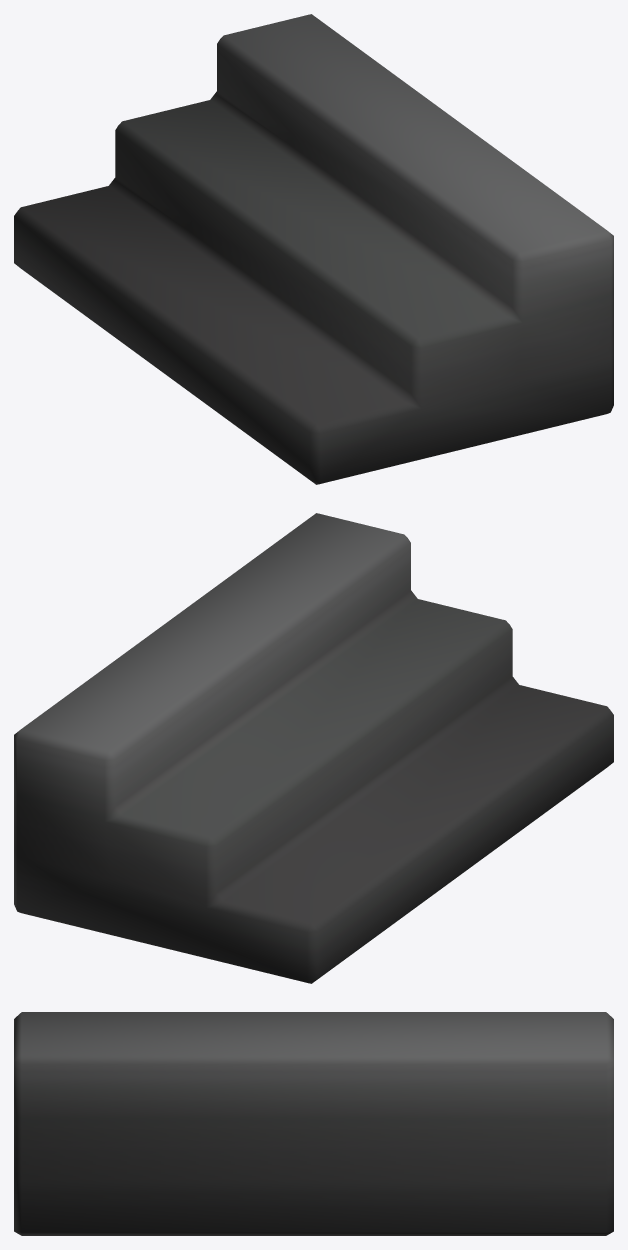
Rendered from Stairs_2.obj.
3 views of the same model, one above another, from view 1: azimuth 30°, elevation 25°; view 2: azimuth 150°, elevation 25°; view 3: azimuth 270°, elevation 25° (orthographic).
Visible parts, largest first — view 1: Stairs_2; view 2: Stairs_2; view 3: Stairs_2.
Boxes of the visible parts, left/top/right/bottom form: Stairs_2: left=14, top=14, right=613, bottom=484; Stairs_2: left=14, top=513, right=613, bottom=983; Stairs_2: left=14, top=1012, right=613, bottom=1235.
Size of the model in its own units: 0.8133 by 0.4689 by 1.41.
